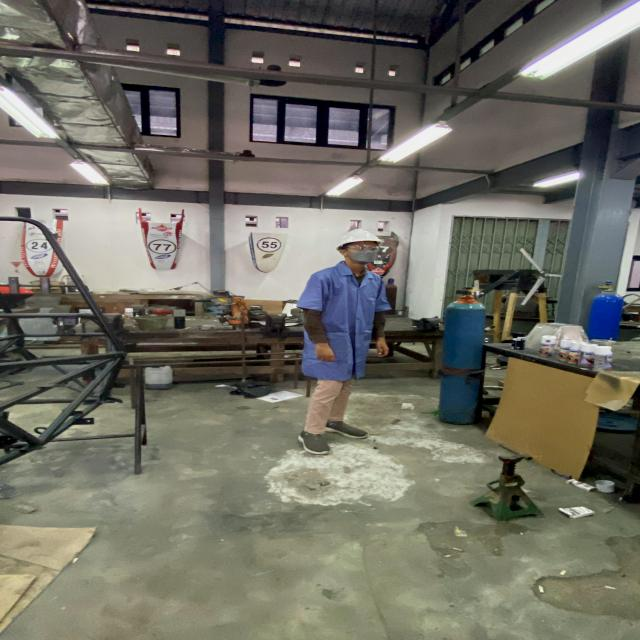face_mask: (342, 242, 382, 267)
glasses: (341, 242, 380, 252)
hand_noglove: (312, 342, 338, 364), (370, 340, 393, 360)
head_helmet: (333, 226, 386, 248)
person: (291, 227, 400, 460)
shoes: (319, 417, 374, 442), (292, 430, 334, 458)
